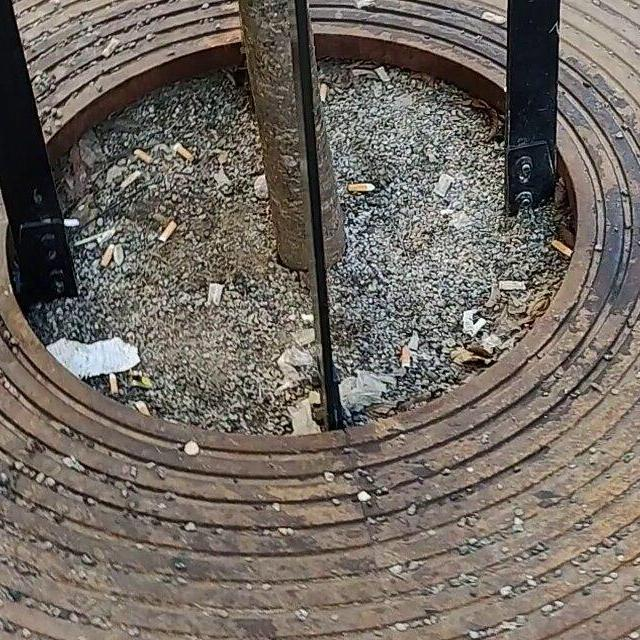Cigarette Butt: (344, 178, 378, 193), (550, 239, 573, 261), (134, 147, 158, 164), (160, 222, 180, 240), (499, 279, 529, 289), (174, 144, 190, 159), (109, 374, 121, 393), (320, 86, 329, 106), (135, 401, 148, 413), (104, 249, 112, 268)
